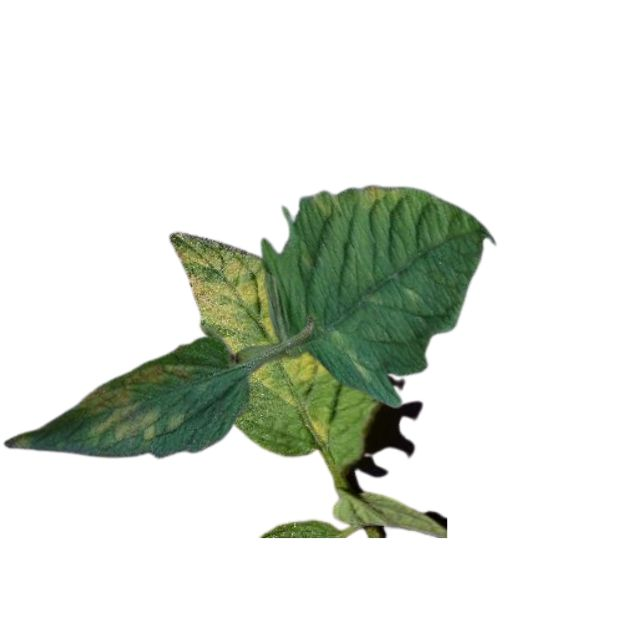Leaf_Mold: (167, 232, 276, 358), (74, 358, 199, 443), (244, 348, 330, 408), (355, 184, 404, 206), (307, 415, 332, 450)
